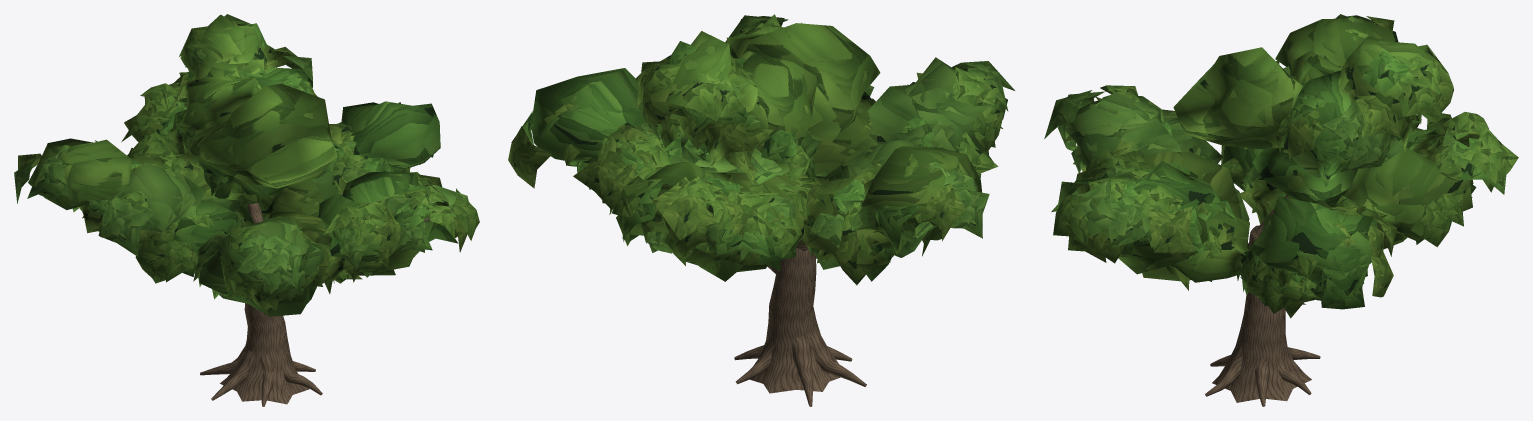
File: HeroOakTree.fbx
3 renders of one model, left to right at view 1: azimuth 30°, elevation 25°; view 2: azimuth 150°, elevation 25°; view 3: azimuth 270°, elevation 25°, orthographic. The views are drawn at different scales.
Parts seen in each view (by area): view 1: HeroOakTree_Foliage, HeroOakTree_Bark; view 2: HeroOakTree_Foliage, HeroOakTree_Bark; view 3: HeroOakTree_Foliage, HeroOakTree_Bark.
Boxes of the visible parts, x1,y1,x2,y2 form: HeroOakTree_Foliage: (14,14,479,316); HeroOakTree_Bark: (200,203,429,406); HeroOakTree_Foliage: (508,14,1014,285); HeroOakTree_Bark: (734,240,866,406); HeroOakTree_Foliage: (1044,14,1518,318); HeroOakTree_Bark: (1205,195,1320,406).
Bounding box in the file's own units: 22.68 × 17.09 × 20.59.
Materials: 2 (2 with a texture image).
